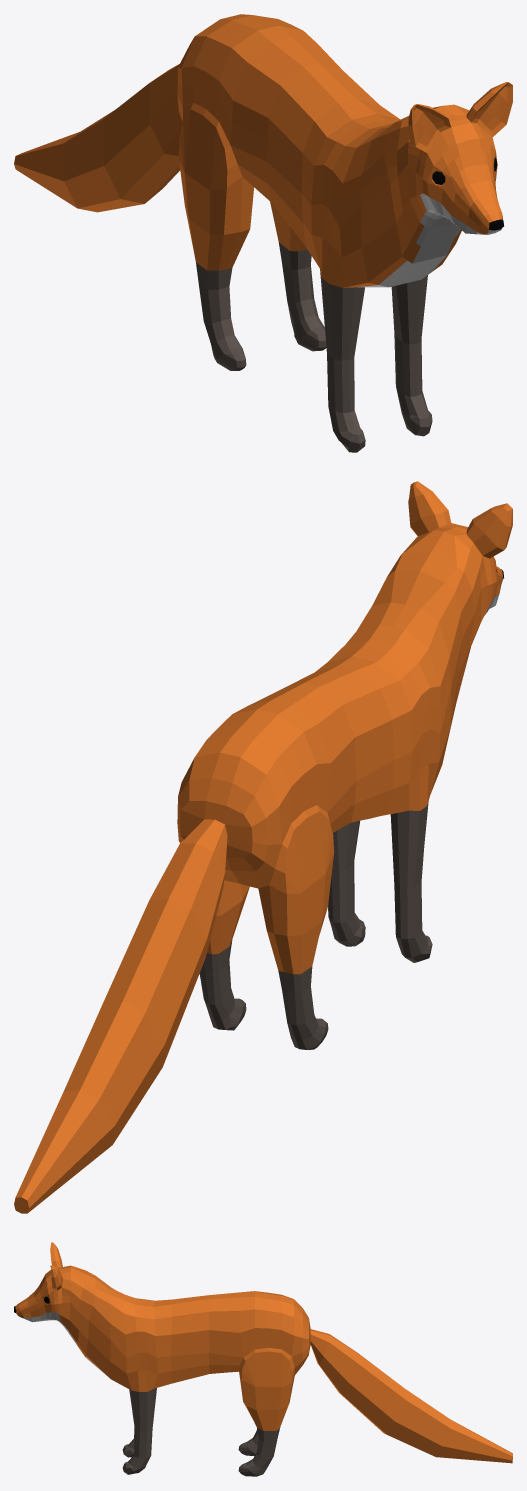
The model's file is Fox.fbx.
The picture shows the model from 3 angles, top to bottom: view 1: azimuth 30°, elevation 25°; view 2: azimuth 150°, elevation 25°; view 3: azimuth 270°, elevation 25°; orthographic projection. The views are drawn at different scales.
Parts seen in each view (by area): view 1: Fox.001; view 2: Fox.001; view 3: Fox.001.
Part boxes in pixels (x1,y1,x2,y2): Fox.001: (14,14,512,452); Fox.001: (14,481,512,1213); Fox.001: (14,1242,512,1476).
Bounding box in the file's own units: 22.01 × 73.76 × 158.
